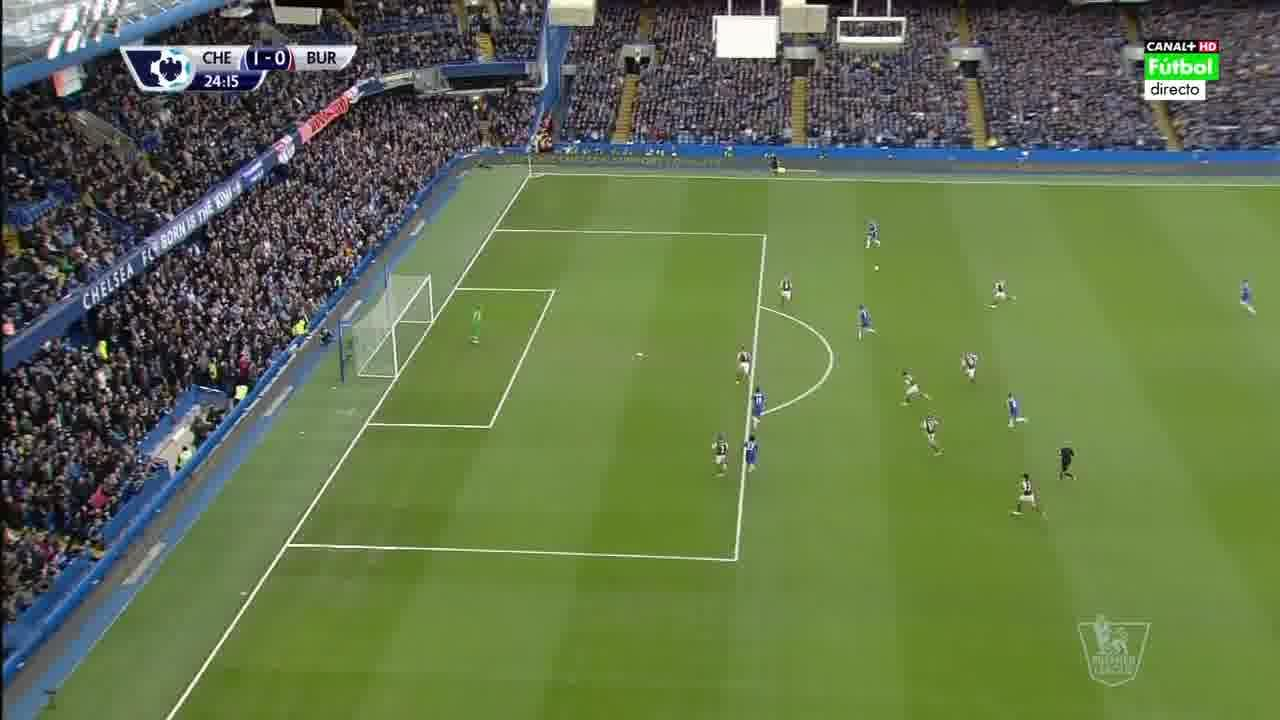football: (874, 264, 880, 272)
